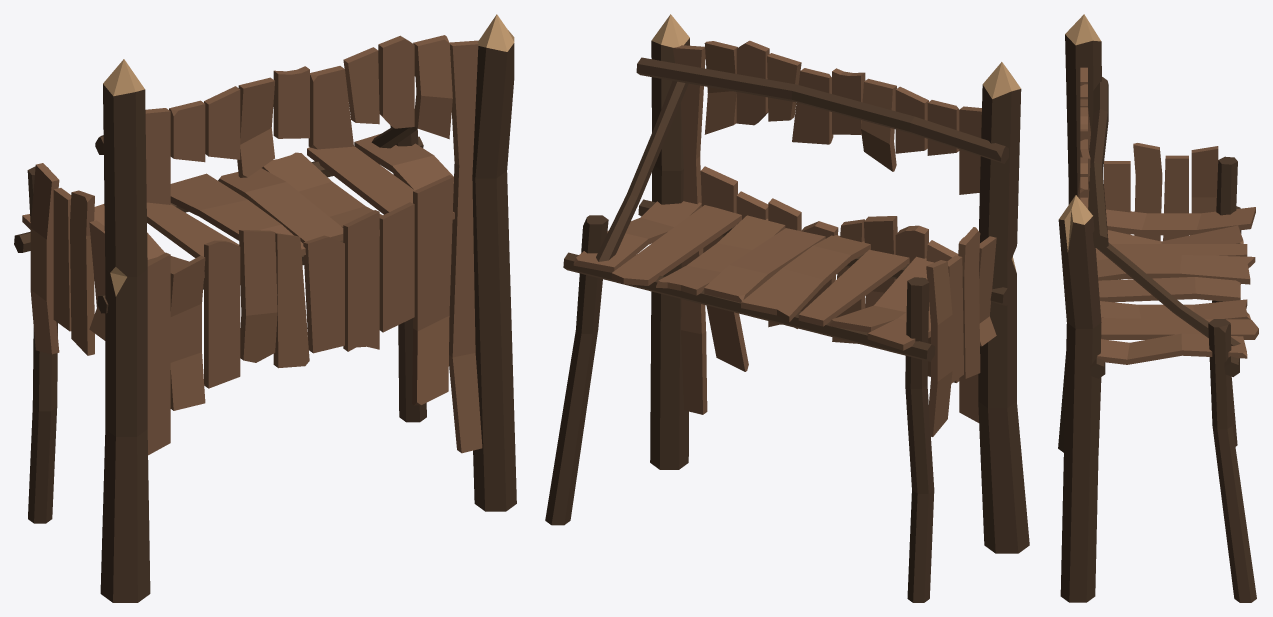
The model's file is Gate.fbx.
3 views of the same model, side by side, from view 1: azimuth 30°, elevation 25°; view 2: azimuth 150°, elevation 25°; view 3: azimuth 270°, elevation 25° (orthographic). The views are drawn at different scales.
Visible parts, largest first — view 1: Gate; view 2: Gate; view 3: Gate.
Part boxes in pixels (x1,y1,x2,y2): Gate: (14, 14, 516, 602); Gate: (545, 14, 1029, 602); Gate: (1058, 14, 1258, 602).
Bounding box in the file's own units: 176 × 214 × 89.4.
